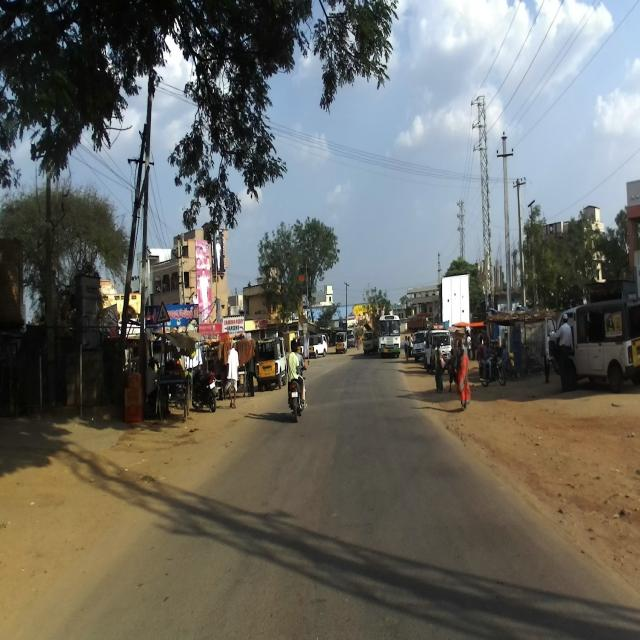motorcycle_Hero: (287, 363, 307, 422)
motorcycle_Honda: (192, 360, 217, 412)
truck: (544, 299, 640, 395)
